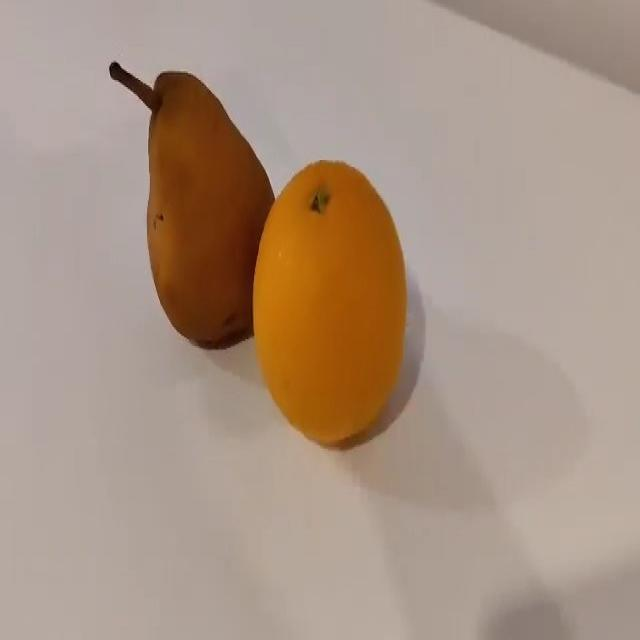Orange: (253, 158, 407, 446)
